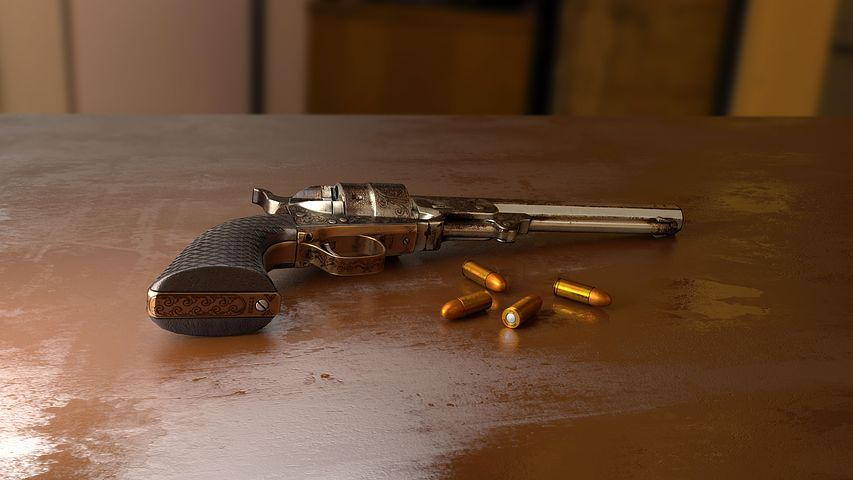gun: (142, 167, 693, 347)
